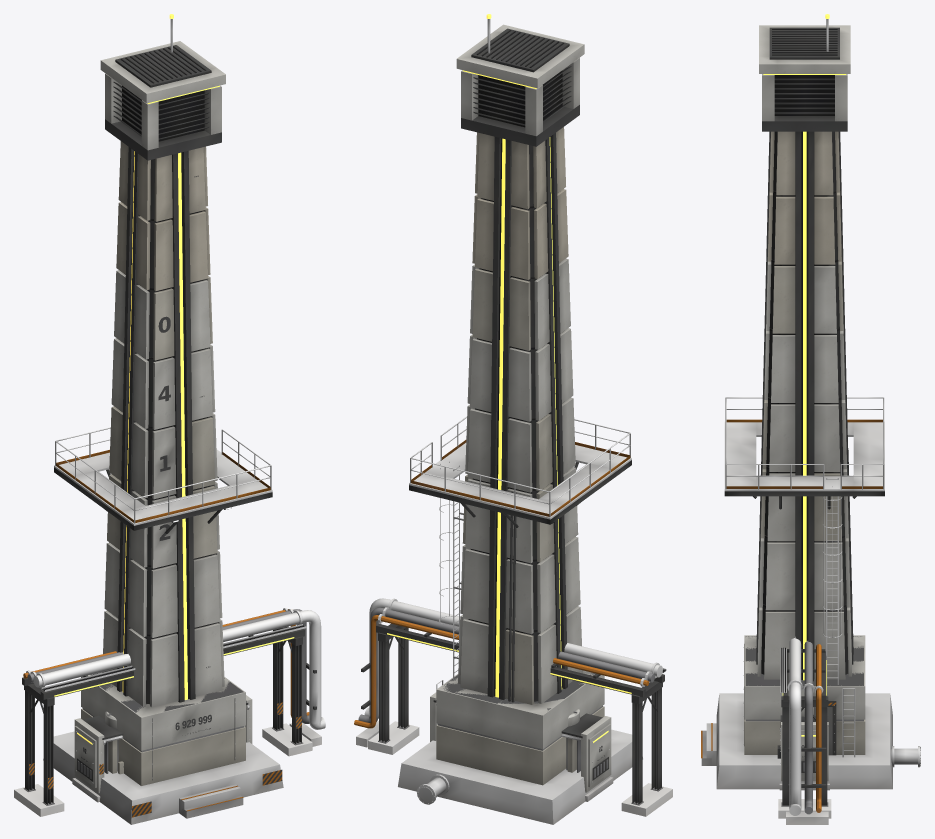
The model's file is station.glb.
3 renders of one model, left to right at view 1: azimuth 30°, elevation 25°; view 2: azimuth 150°, elevation 25°; view 3: azimuth 270°, elevation 25°, orthographic. The views are drawn at different scales.
Parts seen in each view (by area): view 1: spire, pipe_rack, fin_row, pipe_rack_drop; view 2: spire, pipe_rack, fin_row, pipe_rack_drop; view 3: spire, pipe_rack_drop, pipe_rack, fin_row.
Part boxes in pixels (x1=…): spire: x1=43, y1=14, x2=283, y2=824; pipe_rack: x1=14, y1=608, x2=312, y2=816; fin_row: x1=72, y1=695, x2=252, y2=802; pipe_rack_drop: x1=26, y1=609, x2=325, y2=746; spire: x1=398, y1=14, x2=642, y2=824; pipe_rack: x1=368, y1=598, x2=672, y2=816; fin_row: x1=430, y1=692, x2=613, y2=801; pipe_rack_drop: x1=354, y1=598, x2=656, y2=747; spire: x1=701, y1=14, x2=920, y2=789; pipe_rack_drop: x1=786, y1=656, x2=828, y2=824; pipe_rack: x1=778, y1=637, x2=831, y2=818; fin_row: x1=779, y1=707, x2=829, y2=790.
Size of what is drawn, in the model's own units: 13.35 by 33.24 by 8.73.
Materials: 7 (1 with a texture image).
